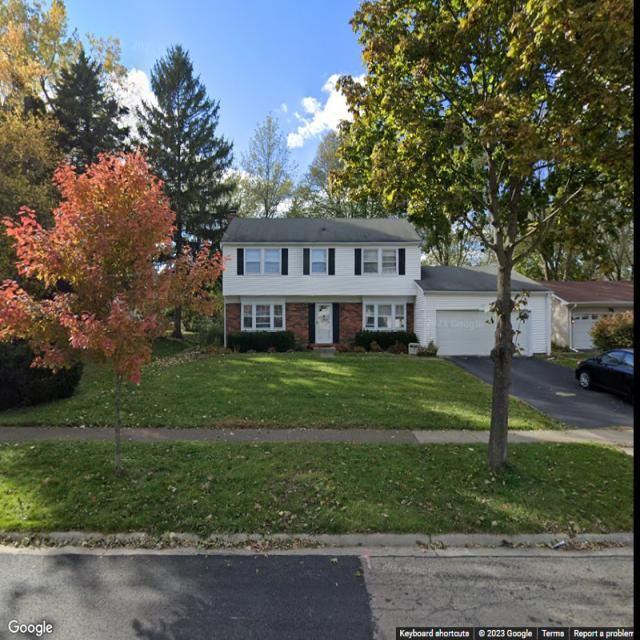House: (219, 210, 556, 356), (539, 280, 634, 354)
